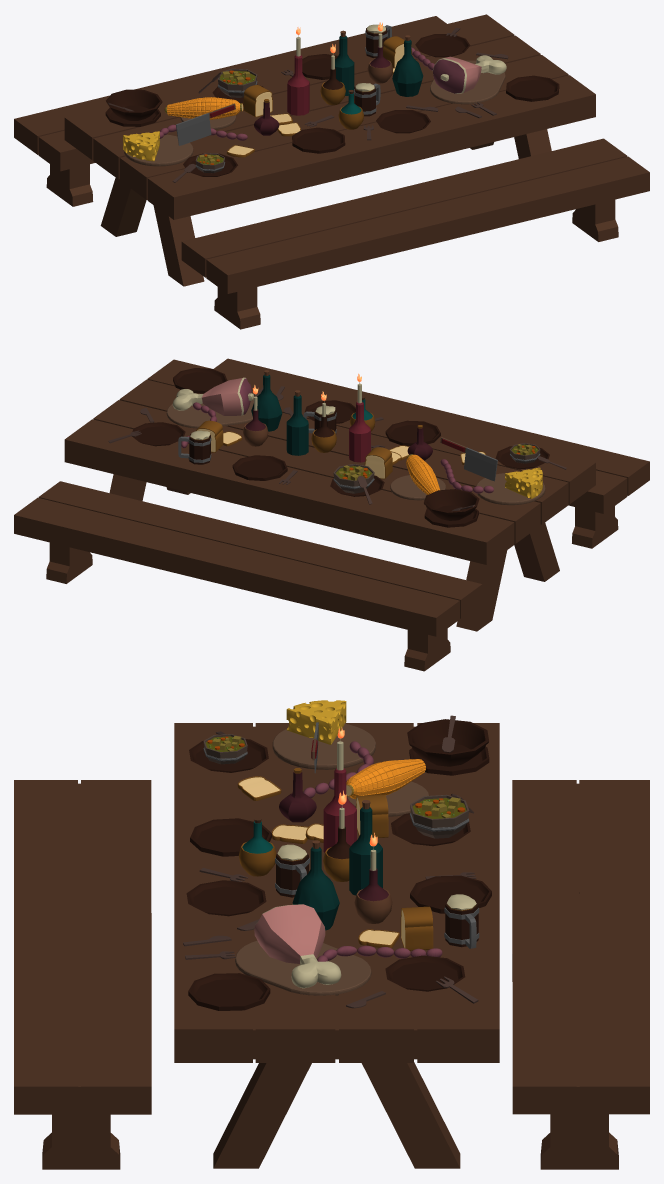
Rendered from Tavola completa + panche.fbx.
3 renders of one model, top to bottom at view 1: azimuth 30°, elevation 25°; view 2: azimuth 150°, elevation 25°; view 3: azimuth 270°, elevation 25°, orthographic. The views are drawn at different scales.
Visible parts, largest first — view 1: Table 2.001, Bench 1.001, Bench 2.001, Bottle 1.006, Bone 2.002, Plate 3.001, Cutter plan.002, pannocchia 2, Bottle 3.002, Plate 2.004, Plate 2.002, Cutter plan.001 (+16 smaller); view 2: Table 2.001, Bench 2.001, Bench 1.001, Bottle 1.006, Bone 2.002, Plate 3.001, Plate 2.003, Cutter plan.002, Bottle 2.001, Plate 2.004, Plate 2.002, Cutter plan.001 (+16 smaller); view 3: Table 2.001, Bench 2.001, Bench 1.001, Bottle 1.006, Bone 2.002, Cutter plan.002, Plate 3.001, Cutter plan.001, Plate 2.004, Plate 1.005, Soup.002, Plate 1.004 (+20 smaller).
Part boxes in pixels (<box>): Table 2.001: <box>64,14,595,286</box>; Bench 1.001: <box>181,138,649,329</box>; Bench 2.001: <box>14,16,446,206</box>; Bottle 1.006: <box>287,22,392,115</box>; Bone 2.002: <box>432,55,506,93</box>; Plate 3.001: <box>106,89,162,120</box>; Cutter plan.002: <box>430,60,505,104</box>; pannocchia 2: <box>164,97,243,119</box>; Bottle 3.002: <box>392,35,423,96</box>; Plate 2.004: <box>506,75,559,101</box>; Plate 2.002: <box>292,127,345,153</box>; Cutter plan.001: <box>123,134,193,166</box>; Table 2.001: <box>64,359,595,631</box>; Bench 2.001: <box>14,481,482,671</box>; Bench 1.001: <box>214,358,649,548</box>; Bottle 1.006: <box>243,373,370,462</box>; Bone 2.002: <box>172,377,253,415</box>; Plate 3.001: <box>424,489,479,520</box>; Plate 2.003: <box>232,455,287,480</box>; Cutter plan.002: <box>166,398,253,428</box>; Bottle 2.001: <box>286,390,308,455</box>; Plate 2.004: <box>173,368,227,393</box>; Plate 2.002: <box>385,420,440,445</box>; Cutter plan.001: <box>476,473,545,505</box>; Table 2.001: <box>174,723,499,1168</box>; Bench 2.001: <box>512,780,649,1169</box>; Bench 1.001: <box>14,780,151,1169</box>; Bottle 1.006: <box>323,727,392,923</box>; Bone 2.002: <box>254,904,341,988</box>; Cutter plan.002: <box>235,940,371,995</box>; Plate 3.001: <box>407,719,488,766</box>; Cutter plan.001: <box>272,723,375,769</box>; Plate 2.004: <box>188,973,270,1010</box>; Plate 1.005: <box>186,880,266,916</box>; Soup.002: <box>409,794,469,838</box>; Plate 1.004: <box>385,955,465,991</box>.
Size of the model in its own units: 685 by 295 by 601.
